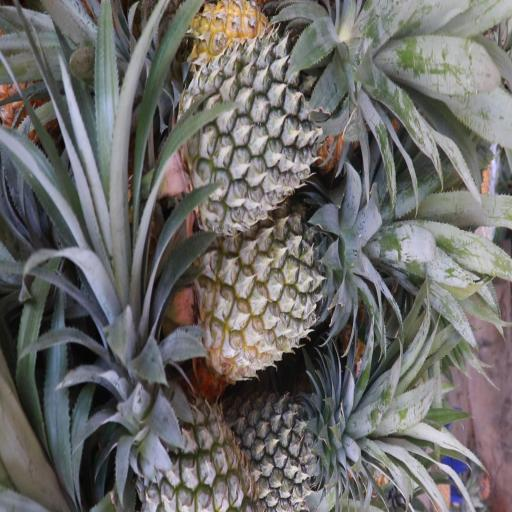------------------------------: (200, 224, 338, 374), (128, 382, 250, 512)
